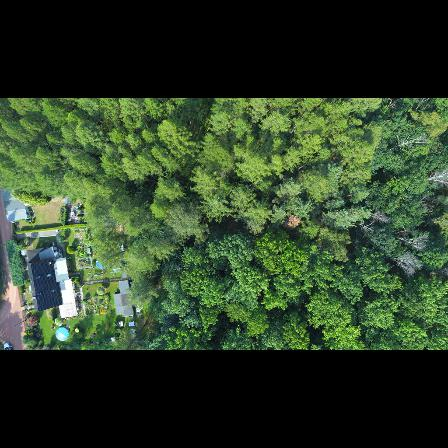Dead: (387, 133, 431, 155), (381, 253, 423, 276), (392, 226, 431, 250), (425, 168, 448, 187)
